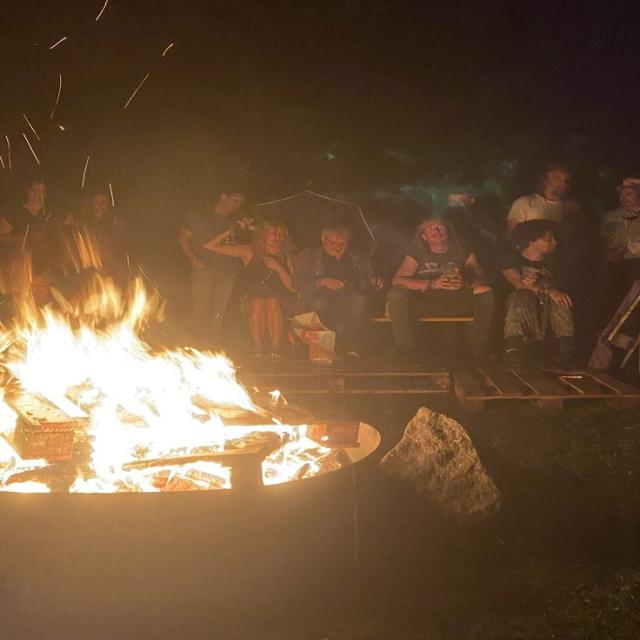fire: (0, 284, 333, 493)
